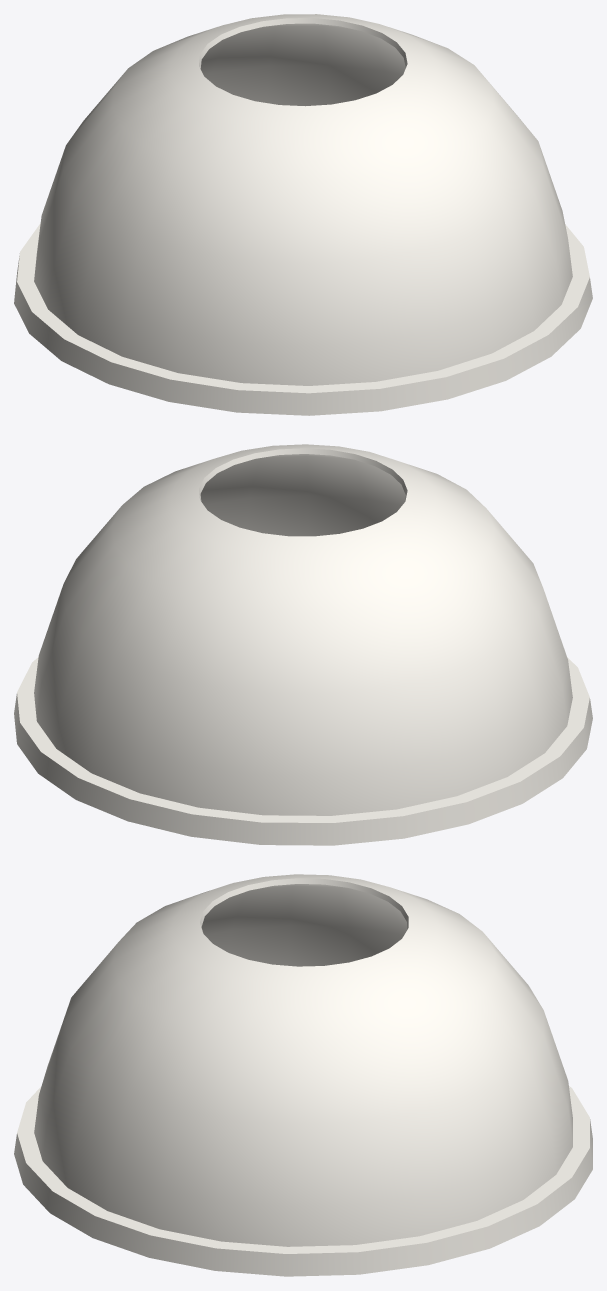
File: Cup S Cover.fbx
3 views of the same model, one above another, from view 1: azimuth 30°, elevation 25°; view 2: azimuth 150°, elevation 25°; view 3: azimuth 270°, elevation 25° (orthographic).
Visible parts, largest first — view 1: Cup S Cover; view 2: Cup S Cover; view 3: Cup S Cover.
Boxes of the visible parts, left/top/right/bottom form: Cup S Cover: left=14, top=14, right=592, bottom=415; Cup S Cover: left=14, top=444, right=592, bottom=845; Cup S Cover: left=14, top=874, right=592, bottom=1276.
Bounding box in the file's own units: 0.7658 × 0.3384 × 0.7643.
